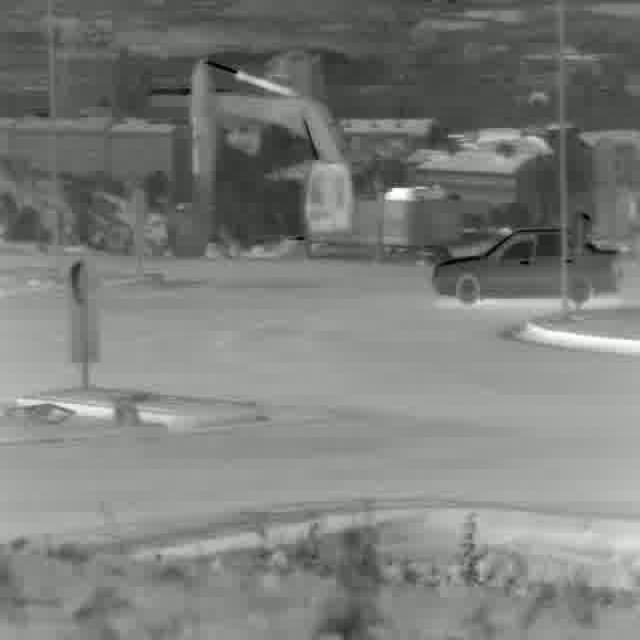Car: (433, 231, 619, 308)
